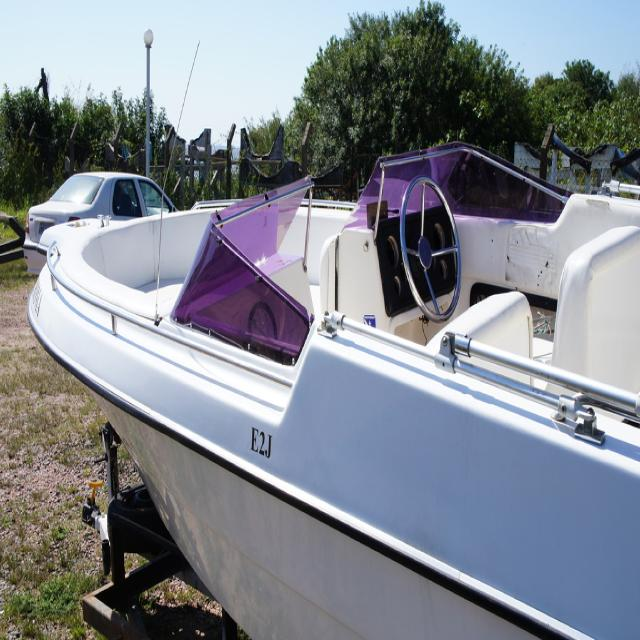Boat: (16, 67, 640, 576)
